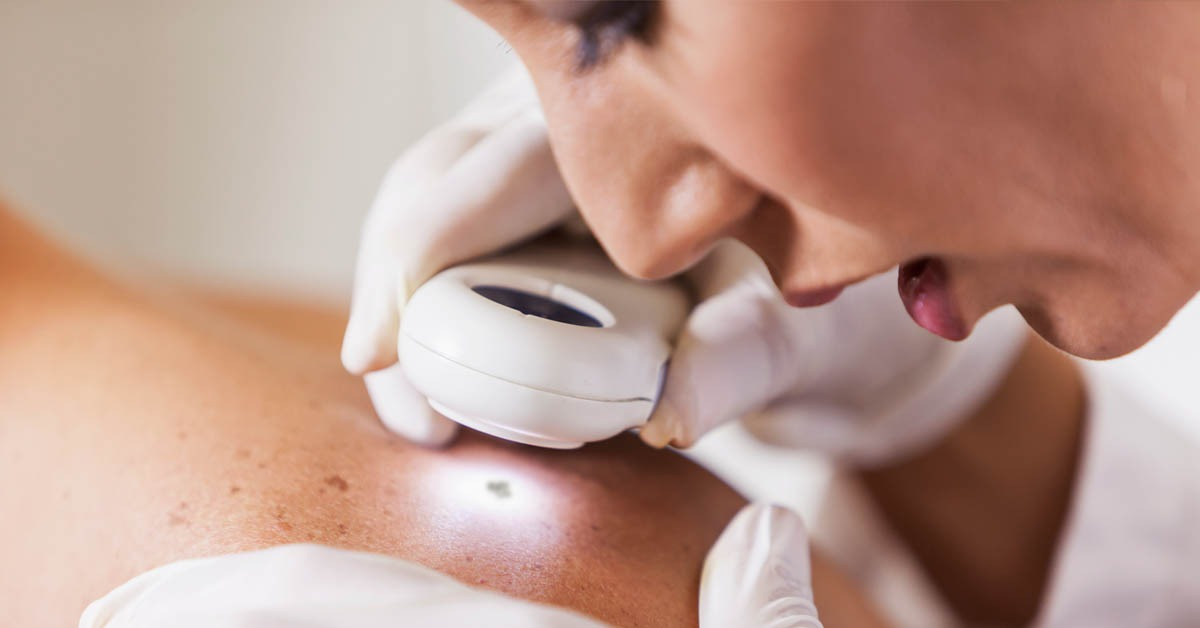Warts: (463, 467, 534, 519)
